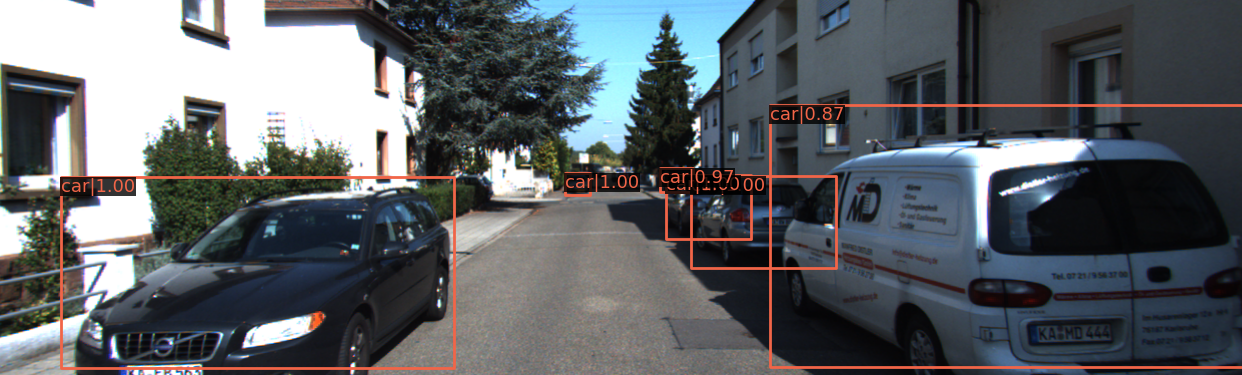car: (67, 189, 460, 375), (693, 178, 820, 273), (664, 178, 749, 241), (663, 169, 694, 194)
